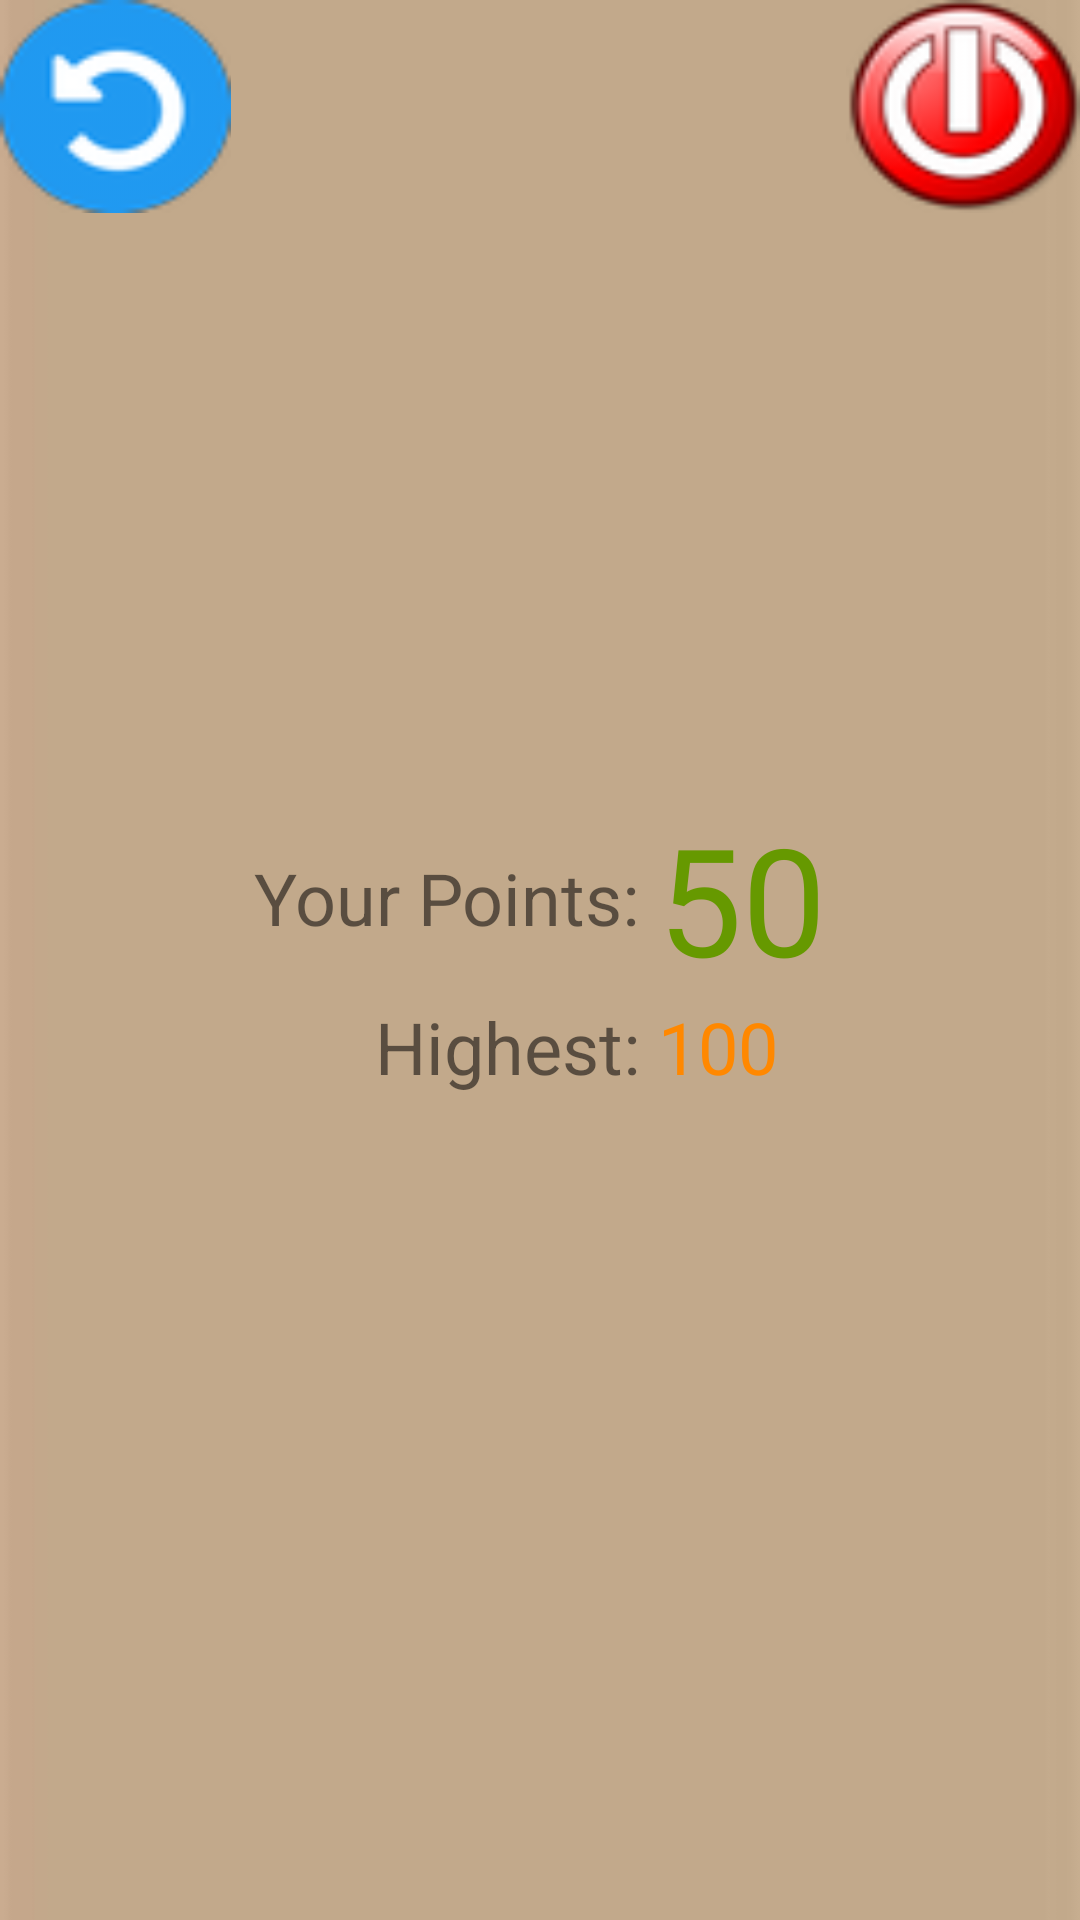

Where icons sit on this 1080*1920 app screen, as (x1, y1, x2, y2):
exit: (849, 0, 1080, 210)
restart: (0, 0, 231, 213)
